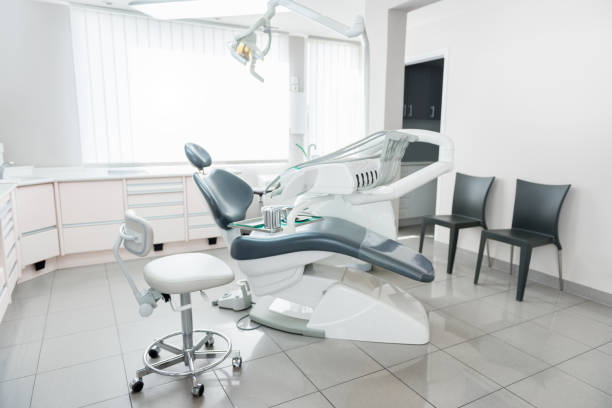chair: (116, 207, 244, 394), (473, 173, 572, 303), (418, 172, 494, 275)
counter: (1, 163, 442, 330)
countertop: (2, 161, 255, 194)
exam_table: (183, 128, 459, 344)
faucet: (281, 138, 331, 161)
handle: (430, 105, 435, 118), (409, 105, 413, 117), (403, 104, 407, 116)
surgical_light: (227, 24, 275, 84)
